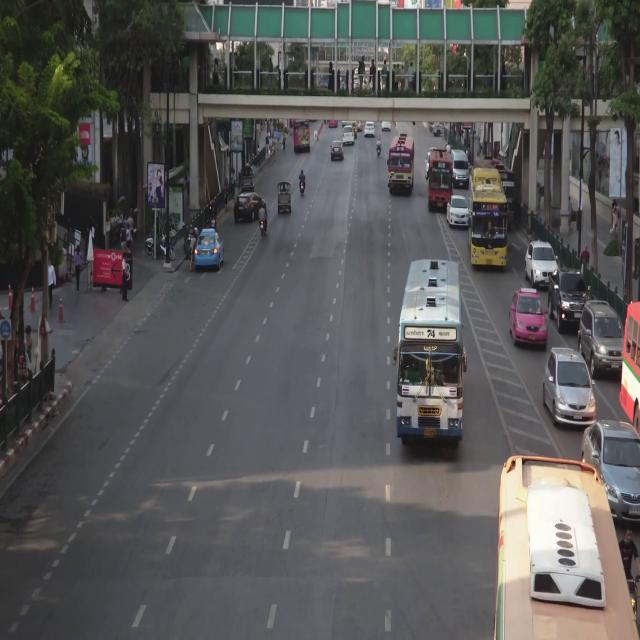bus: (498, 456, 640, 640), (400, 259, 462, 442), (470, 171, 506, 268), (474, 159, 514, 227), (623, 303, 640, 427), (428, 148, 452, 207), (389, 137, 413, 191), (293, 117, 310, 152)
car: (583, 422, 640, 521), (544, 347, 596, 427), (580, 305, 623, 370), (549, 270, 591, 329), (526, 242, 559, 286), (235, 194, 267, 220), (447, 196, 471, 228), (452, 150, 469, 187), (278, 184, 291, 213), (241, 167, 254, 191), (331, 141, 344, 160), (343, 127, 354, 143), (430, 123, 442, 135), (348, 124, 357, 139), (365, 123, 374, 136), (382, 122, 390, 131), (426, 153, 429, 176)
pedestrian: (120, 255, 129, 302), (25, 323, 33, 365), (74, 244, 81, 292), (48, 260, 55, 307), (610, 200, 618, 238), (581, 242, 591, 264), (125, 223, 132, 252), (230, 169, 235, 197), (120, 226, 126, 249), (224, 176, 228, 209), (282, 135, 286, 151), (266, 135, 269, 155), (273, 142, 276, 160), (257, 145, 260, 153)
taxi: (509, 288, 547, 346), (196, 229, 225, 268)
